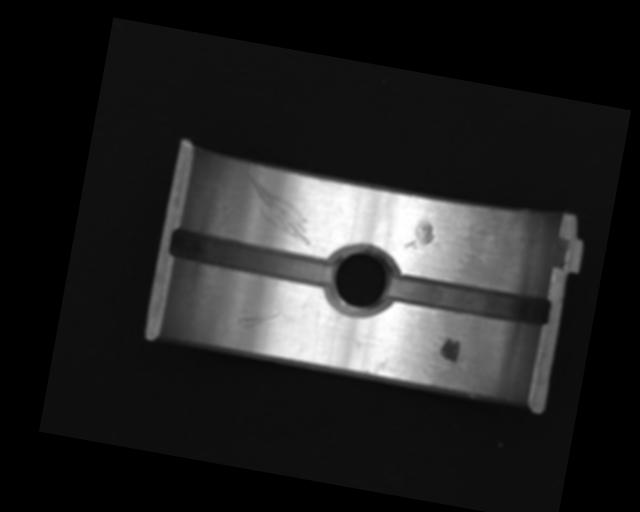blot: (438, 336, 462, 364)
bruise: (404, 218, 437, 254)
gap: (165, 225, 337, 290), (386, 271, 550, 328)
hole: (321, 238, 404, 322)
nick: (234, 169, 322, 246), (236, 302, 292, 337)
